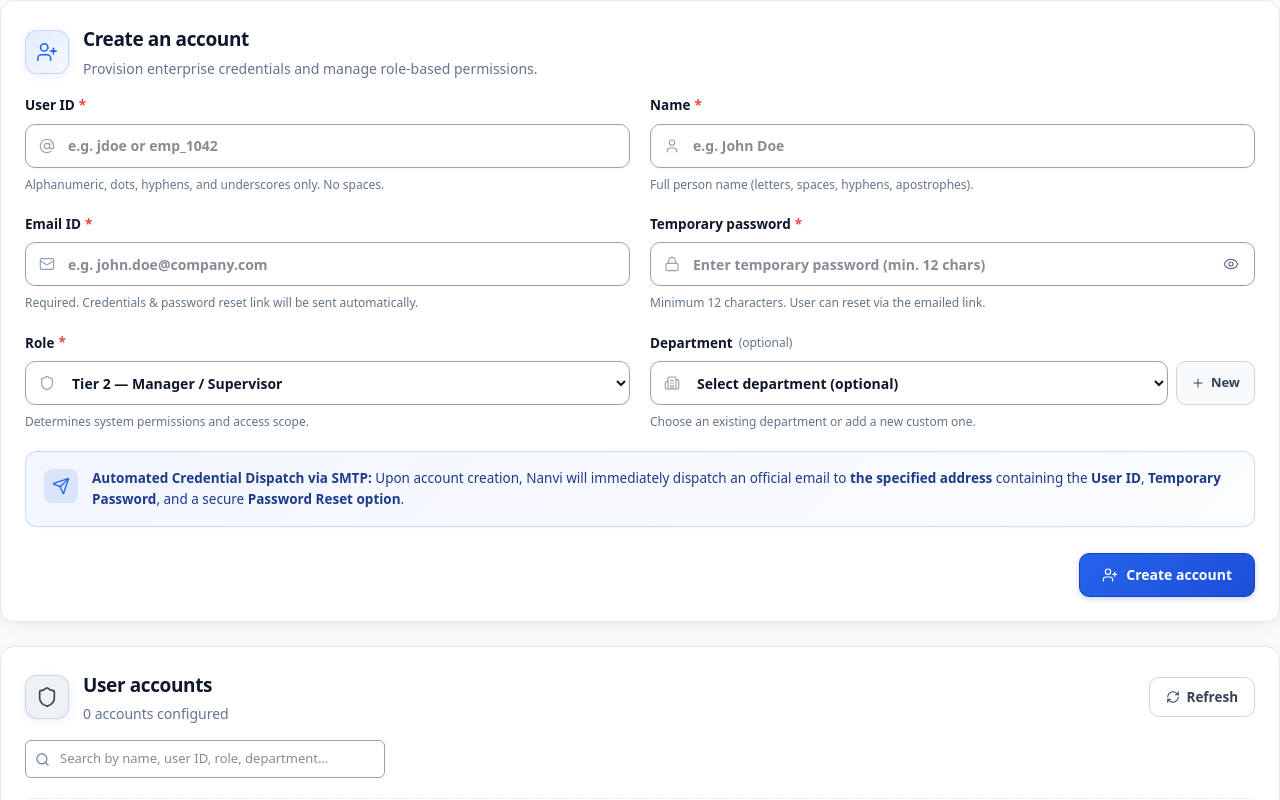
it: toggles password visibility with Show/Hide password icon
Later steps or results of the test are not shown.
Click the button named "Show password": (1231, 264) top-left (1217, 250), bottom-right (1245, 278)
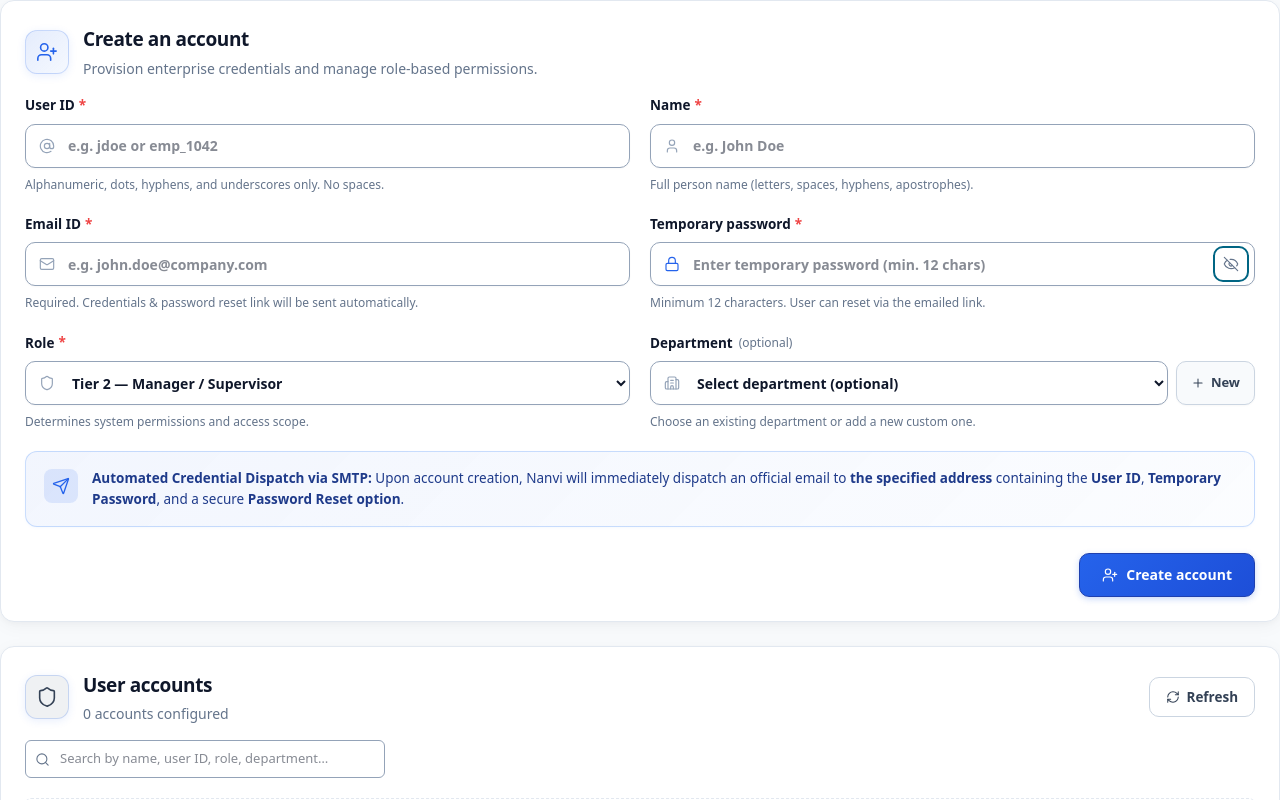
Check: the button named "Hide password" is shown, box top-left (1217, 250), bottom-right (1245, 278)
